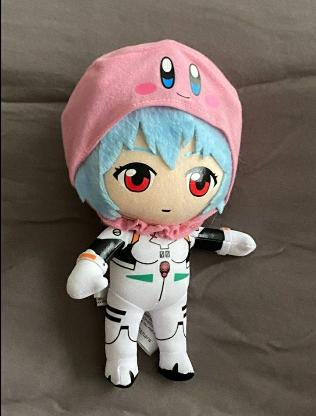rei-plush: (35, 104, 263, 388)
